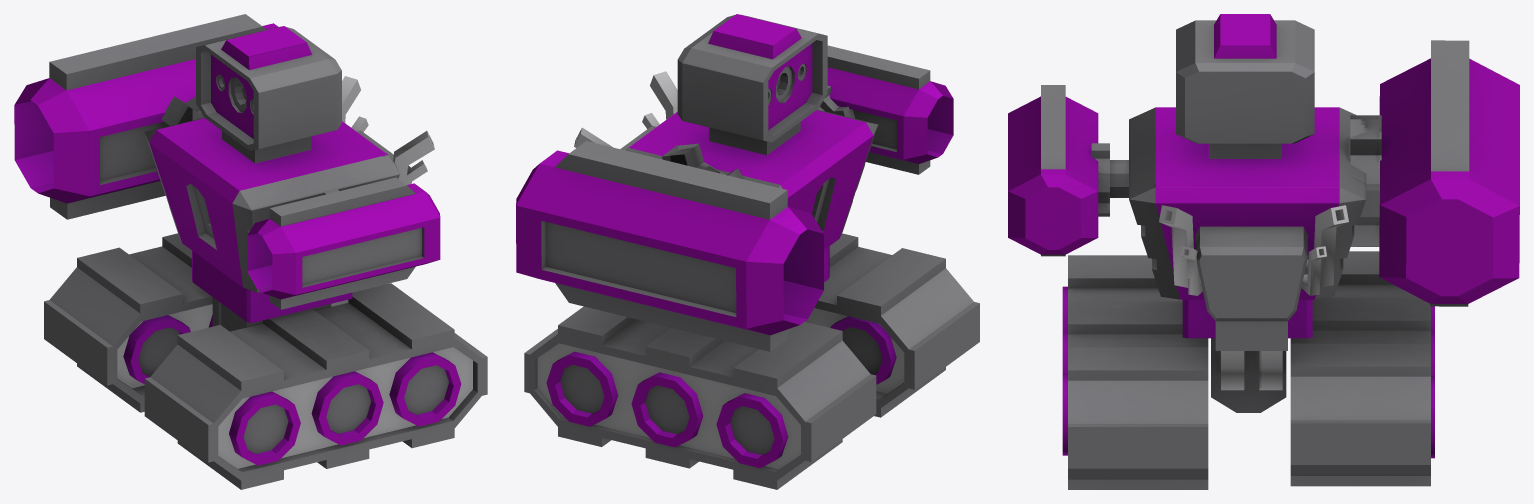
File: Enemy2_Die0.obj
3 renders of one model, left to right at view 1: azimuth 30°, elevation 25°; view 2: azimuth 150°, elevation 25°; view 3: azimuth 270°, elevation 25°, orthographic. The views are drawn at different scales.
Parts seen in each view (by area): view 1: Object006, Object011, Object013, Object014, Object012, Object010, Object009; view 2: Object006, Object011, Object012, Object013, Object014, Object010, Object009; view 3: Object006, Object011, Object013, Object012, Object010, Object014, Object009, Object008.
Part boxes in pixels (bbox=[...]): Object006: bbox=[44, 233, 487, 489]; Object011: bbox=[14, 14, 278, 219]; Object013: bbox=[144, 118, 399, 331]; Object014: bbox=[247, 177, 440, 309]; Object012: bbox=[196, 26, 341, 163]; Object010: bbox=[331, 76, 434, 306]; Object009: bbox=[161, 96, 204, 125]; Object006: bbox=[524, 233, 979, 489]; Object011: bbox=[516, 141, 823, 351]; Object012: bbox=[677, 14, 827, 155]; Object013: bbox=[626, 109, 878, 322]; Object014: bbox=[827, 45, 953, 174]; Object010: bbox=[574, 71, 677, 150]; Object009: bbox=[662, 143, 744, 179]; Object006: bbox=[1062, 251, 1434, 489]; Object011: bbox=[1379, 40, 1519, 306]; Object013: bbox=[1129, 107, 1366, 412]; Object012: bbox=[1176, 14, 1314, 158]; Object010: bbox=[1159, 205, 1348, 390]; Object014: bbox=[1008, 85, 1098, 256]; Object009: bbox=[1350, 115, 1381, 246]; Object008: bbox=[1091, 143, 1128, 216].
Bounding box in the file's own units: 87.45 × 108 × 125.
